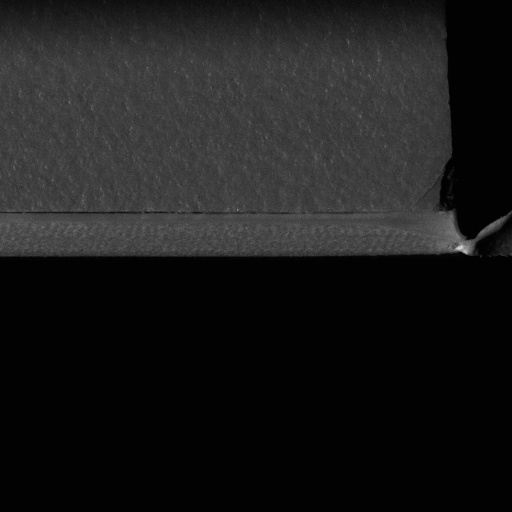bengque: (434, 156, 463, 219)
changdai: (435, 208, 511, 264)
